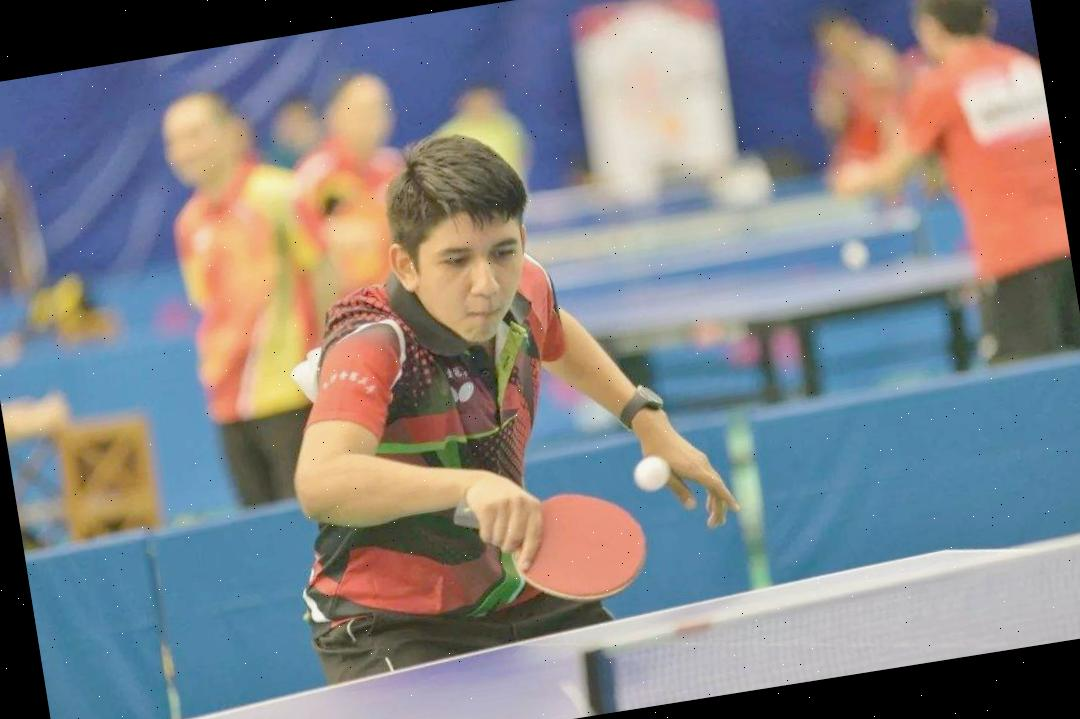ball: (624, 450, 675, 499)
